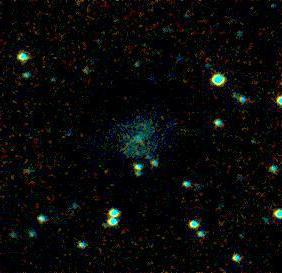star: (123, 139, 153, 169)
